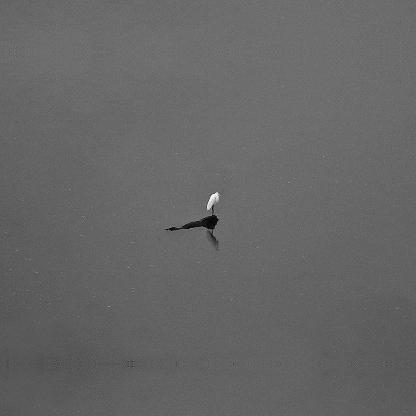Bird: (204, 189, 221, 213)
